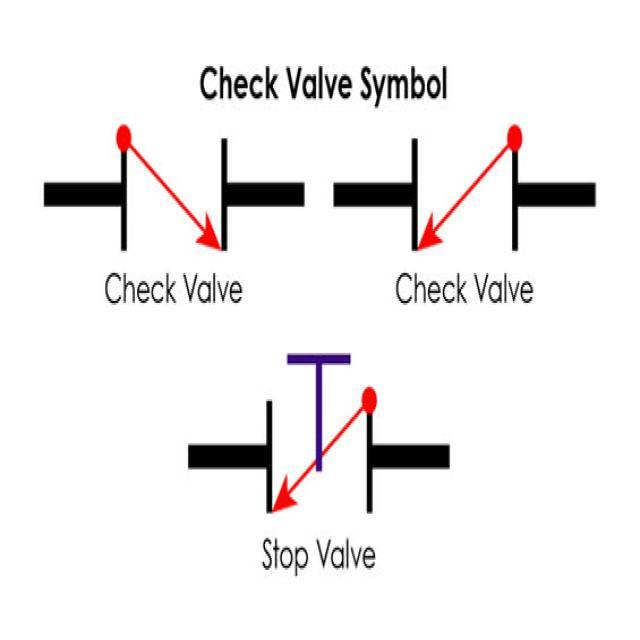Check Valve: (90, 102, 257, 266), (376, 114, 538, 267)
Stop Valve: (234, 330, 408, 528)
